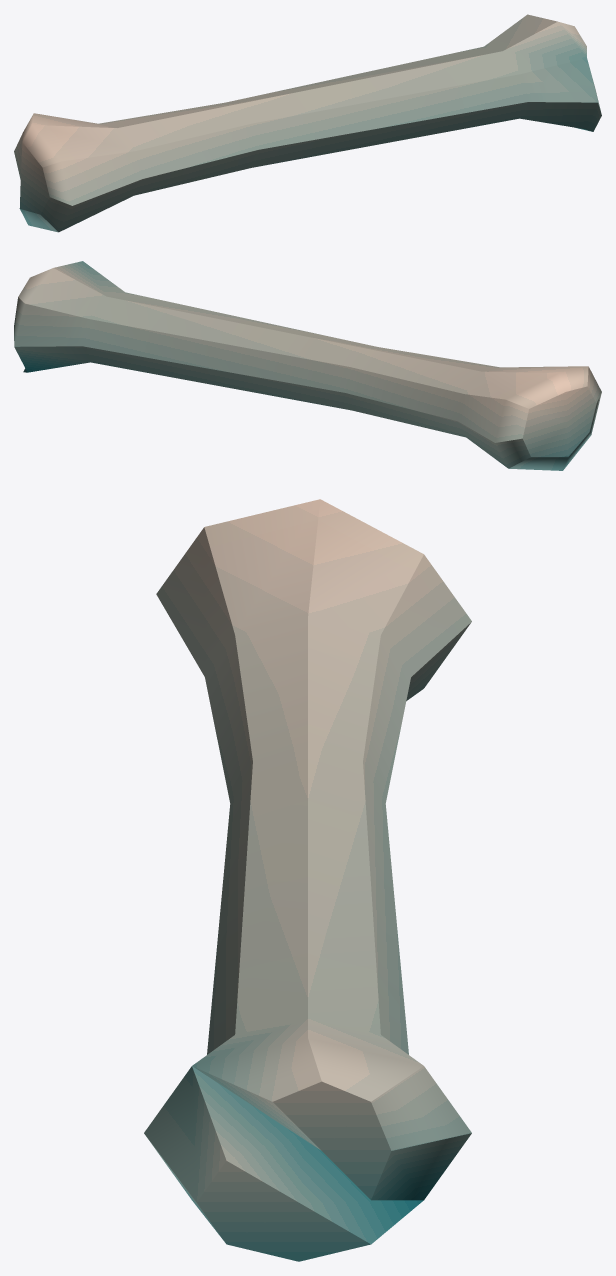
File: Bone3.fbx
The picture shows the model from 3 angles, top to bottom: view 1: azimuth 30°, elevation 25°; view 2: azimuth 150°, elevation 25°; view 3: azimuth 270°, elevation 25°; orthographic projection. The views are drawn at different scales.
Parts seen in each view (by area): view 1: Bone3; view 2: Bone3; view 3: Bone3.
Part boxes in pixels (bbox=[...]): Bone3: bbox=[14, 14, 601, 232]; Bone3: bbox=[14, 261, 601, 470]; Bone3: bbox=[144, 499, 471, 1261].
Size of the model in its own units: 3.09 by 0.6911 by 0.8143.
